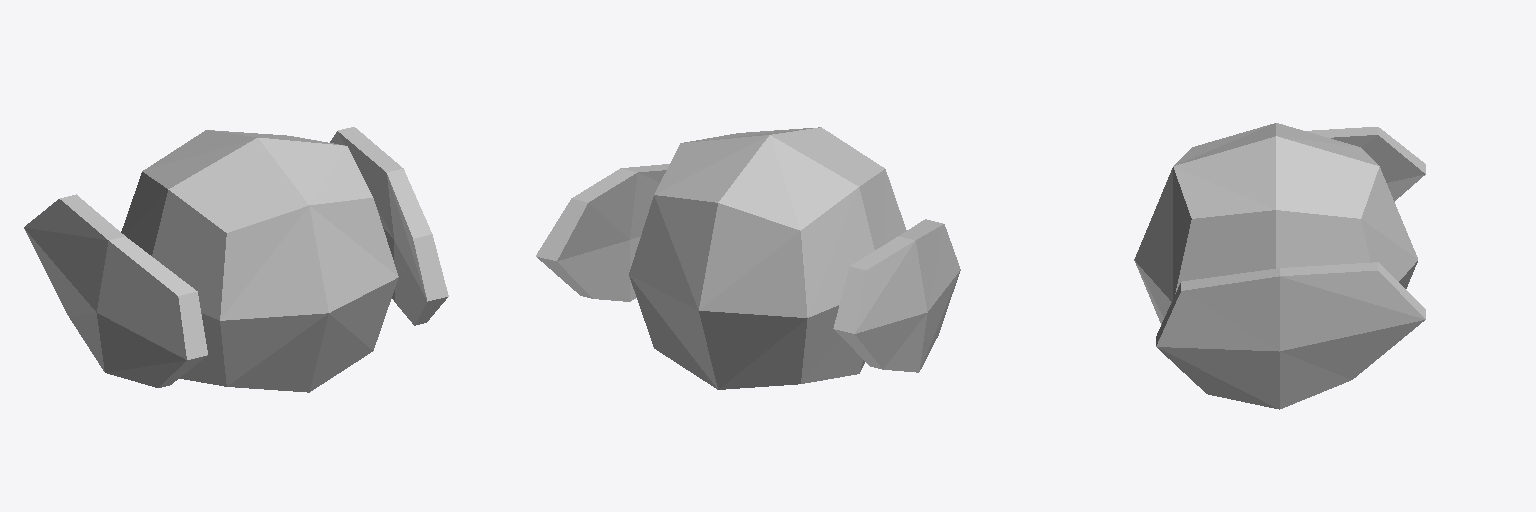
Rendered from Fly.obj.
3 renders of one model, left to right at view 1: azimuth 30°, elevation 25°; view 2: azimuth 150°, elevation 25°; view 3: azimuth 270°, elevation 25°, orthographic.
Visible parts, largest first — view 1: Fly; view 2: Fly; view 3: Fly.
Boxes of the visible parts, box(x1,y1,x2,y2) form: Fly: box(24, 127, 448, 392); Fly: box(536, 127, 960, 389); Fly: box(1134, 123, 1425, 409).
Size of the model in its own units: 1.2 by 0.8579 by 0.9462.